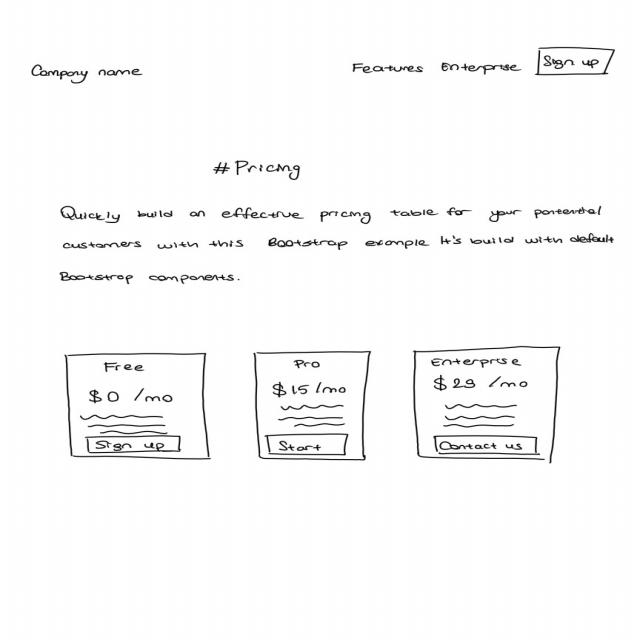button: (535, 46, 617, 78), (433, 435, 542, 457), (265, 434, 351, 457), (84, 436, 184, 454)
container: (414, 346, 564, 461), (66, 352, 212, 461), (254, 351, 374, 462)
label: (352, 61, 524, 77), (30, 64, 148, 85), (212, 159, 304, 183), (430, 374, 531, 392), (89, 388, 176, 405), (269, 382, 351, 400), (429, 356, 523, 368), (103, 360, 148, 373), (293, 360, 326, 370)
textbox: (59, 204, 617, 287), (442, 403, 521, 429), (79, 415, 171, 436), (278, 405, 347, 429)
